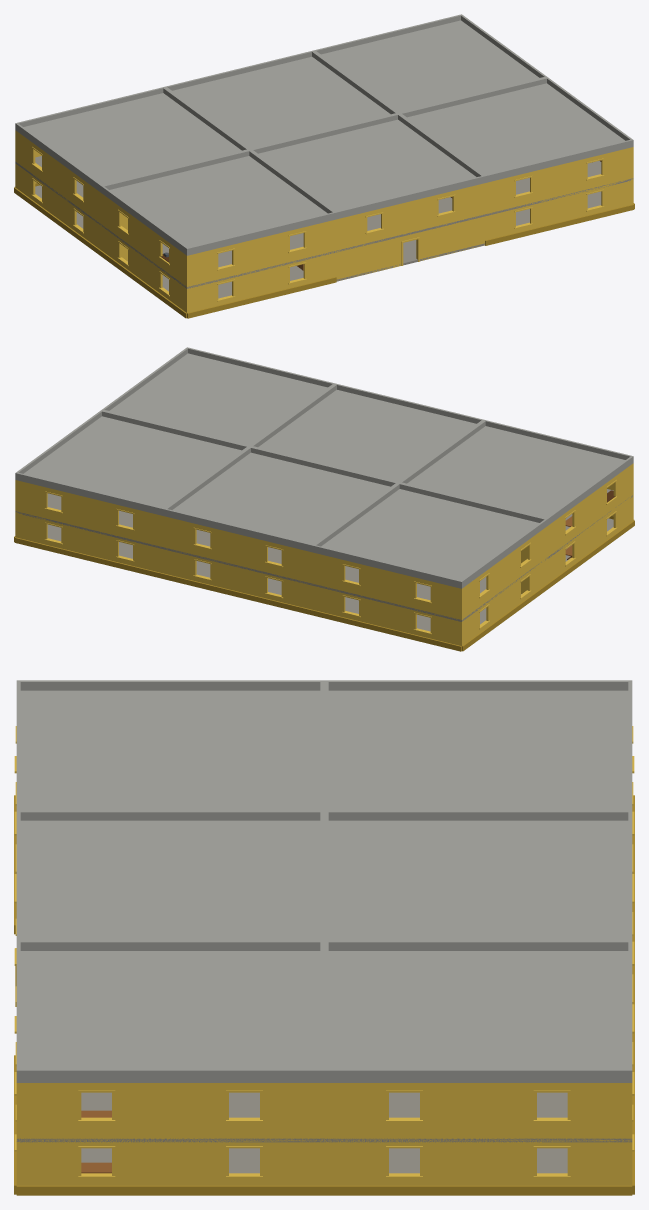
File: school_yellow.glb
The picture shows the model from 3 angles, top to bottom: view 1: azimuth 30°, elevation 25°; view 2: azimuth 150°, elevation 25°; view 3: azimuth 270°, elevation 25°; orthographic projection. The views are drawn at different scales.
Visible parts, largest first — view 1: school_yellow; view 2: school_yellow; view 3: school_yellow.
Boxes of the visible parts, <box> form: school_yellow: <box>14,14,634,318</box>; school_yellow: <box>14,347,634,651</box>; school_yellow: <box>14,680,634,1195</box>.
Bounding box in the file's own units: 45.26 × 6.66 × 30.26.
